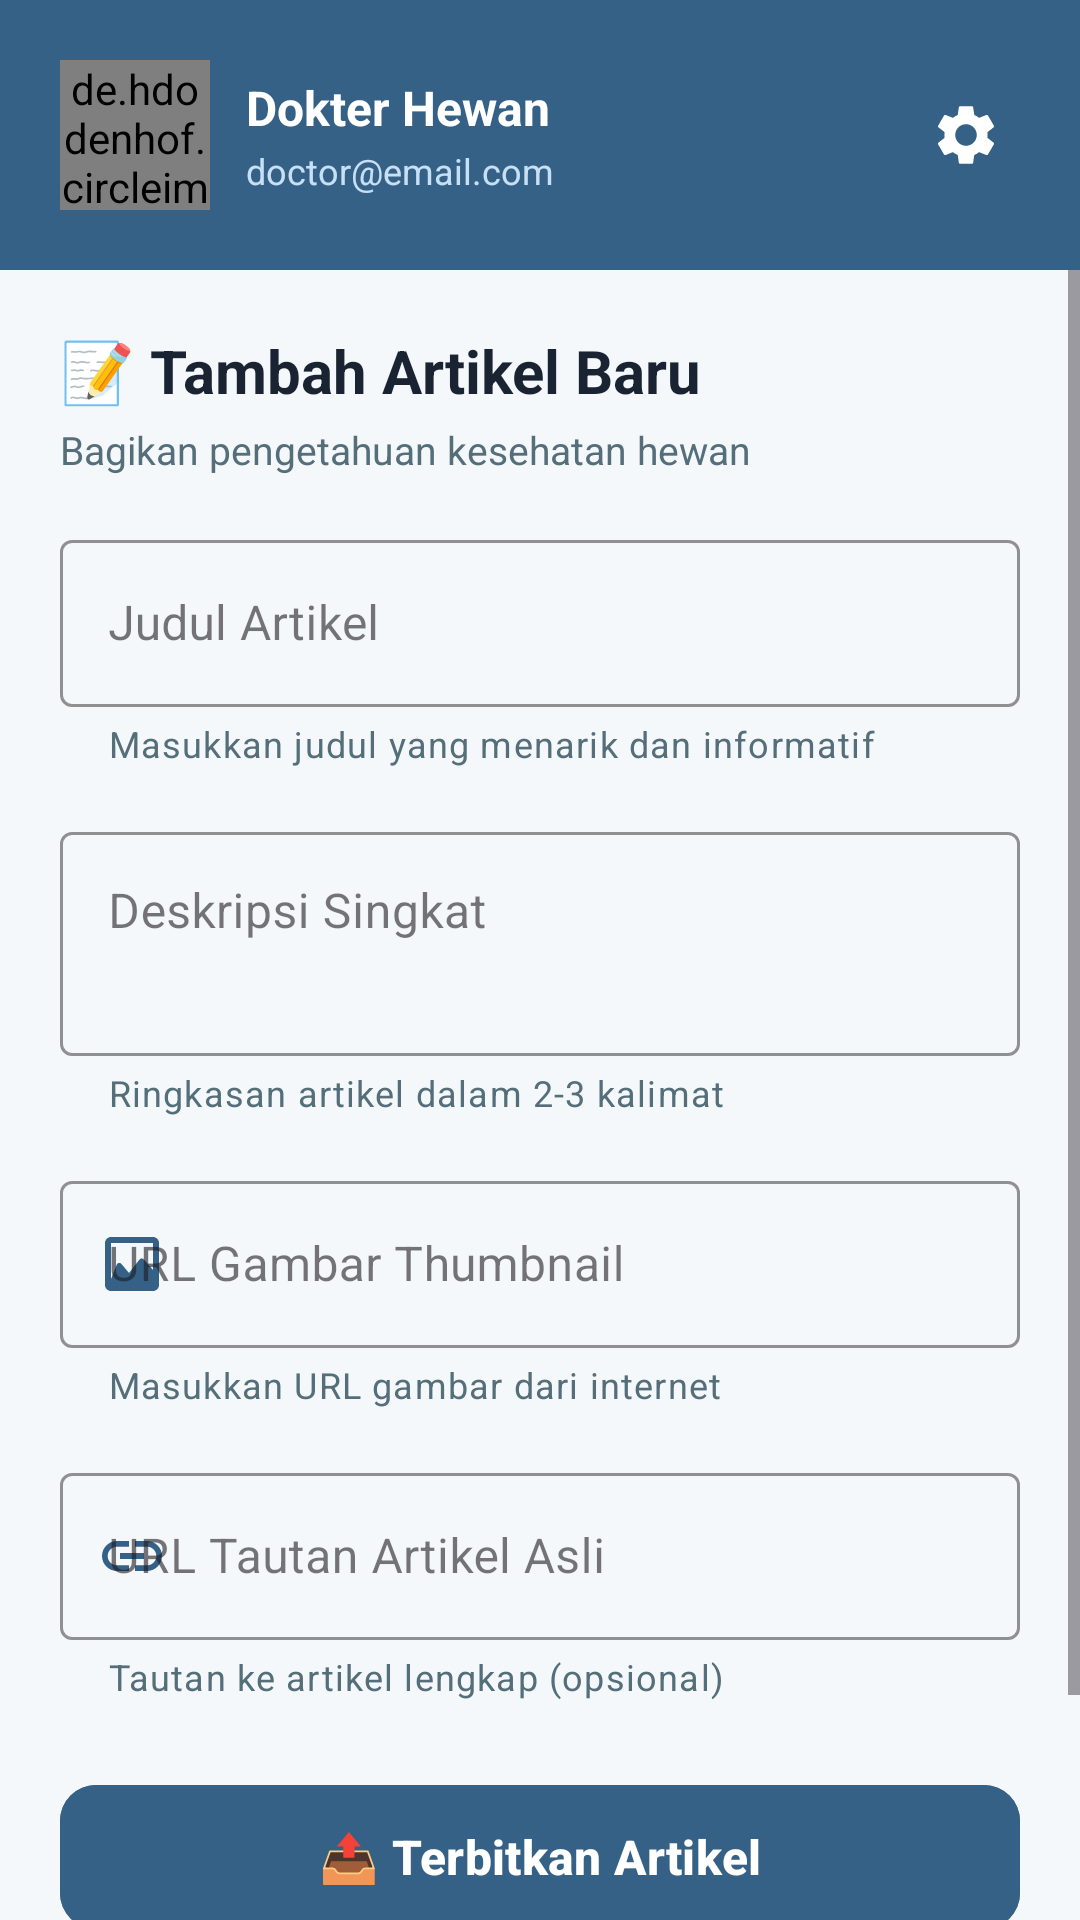

Locate icon controls on the screen. Image size 1080×1920, boxes as (x1, y1, x2, y2).
Pengaturan Dokter: (938, 106, 994, 164)
